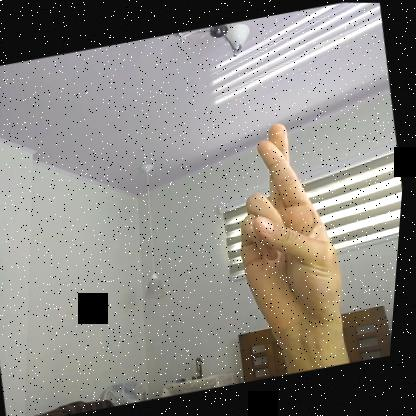R: (216, 114, 364, 343)
